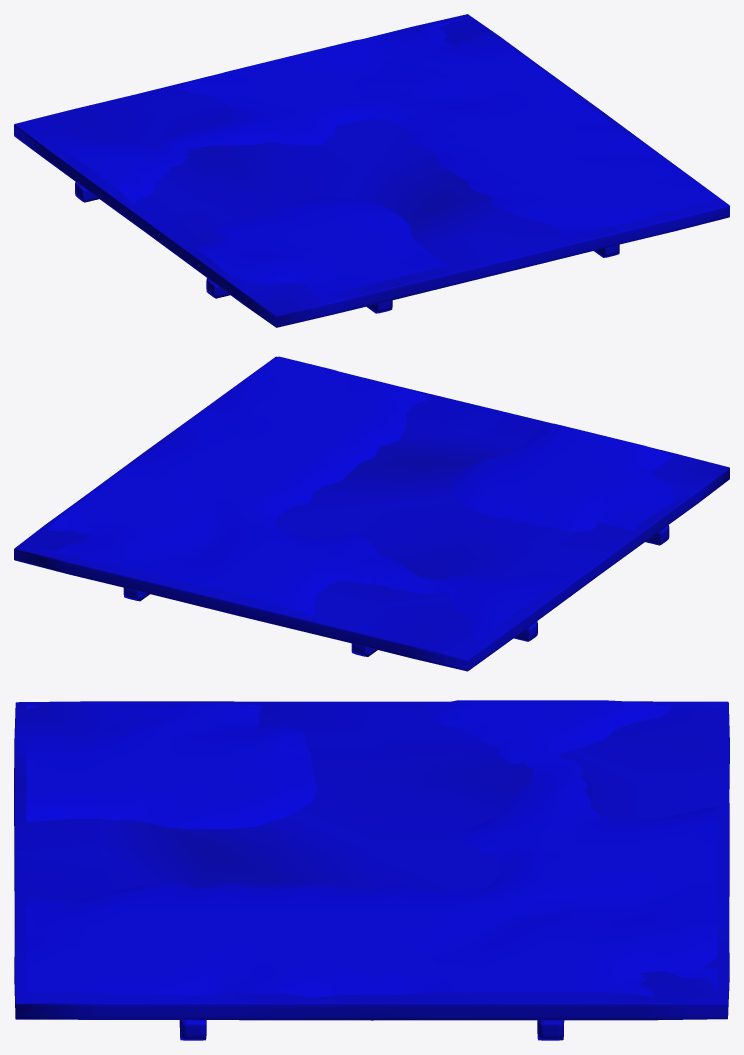
File: floor_slab.glb
The picture shows the model from 3 angles, top to bottom: view 1: azimuth 30°, elevation 25°; view 2: azimuth 150°, elevation 25°; view 3: azimuth 270°, elevation 25°; orthographic projection. The views are drawn at different scales.
Visible parts, largest first — view 1: floor_slab; view 2: floor_slab; view 3: floor_slab.
Boxes of the visible parts, x1,y1,x2,y2 form: floor_slab: [14, 14, 729, 327]; floor_slab: [14, 356, 729, 671]; floor_slab: [14, 700, 729, 1040].
Size of what is drawn, in the model's own units: 6 by 0.4171 by 6.01.
